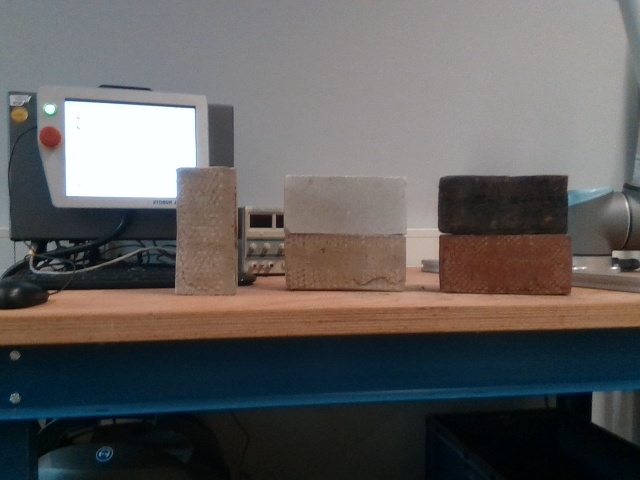brick: (175, 169, 235, 293), (439, 176, 566, 231), (443, 236, 570, 291), (282, 175, 408, 230), (285, 234, 402, 289)
